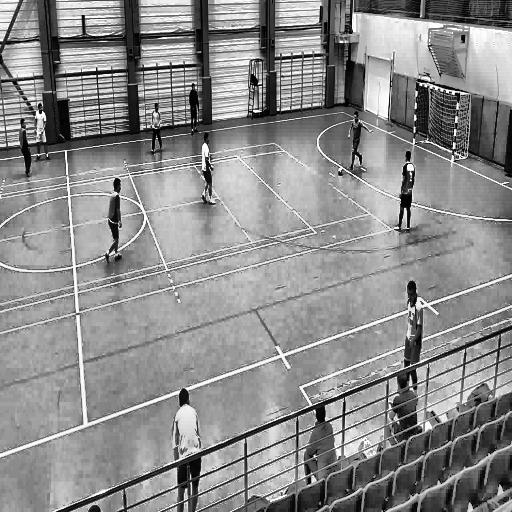ball: (337, 164, 345, 178)
player: (170, 385, 201, 512), (302, 396, 338, 474), (403, 278, 424, 404), (106, 177, 127, 272), (394, 149, 415, 234), (347, 111, 373, 178), (200, 131, 219, 207), (33, 103, 52, 164), (149, 100, 165, 157), (18, 115, 32, 179), (188, 81, 201, 135)
